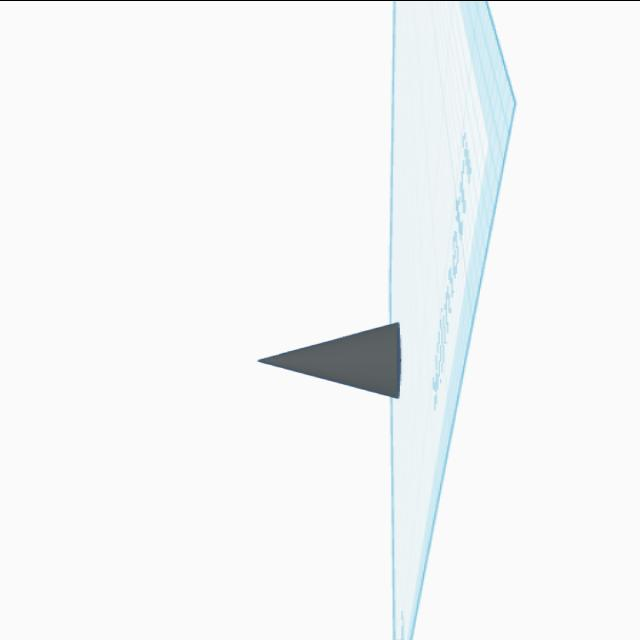cone: (250, 318, 408, 400)
